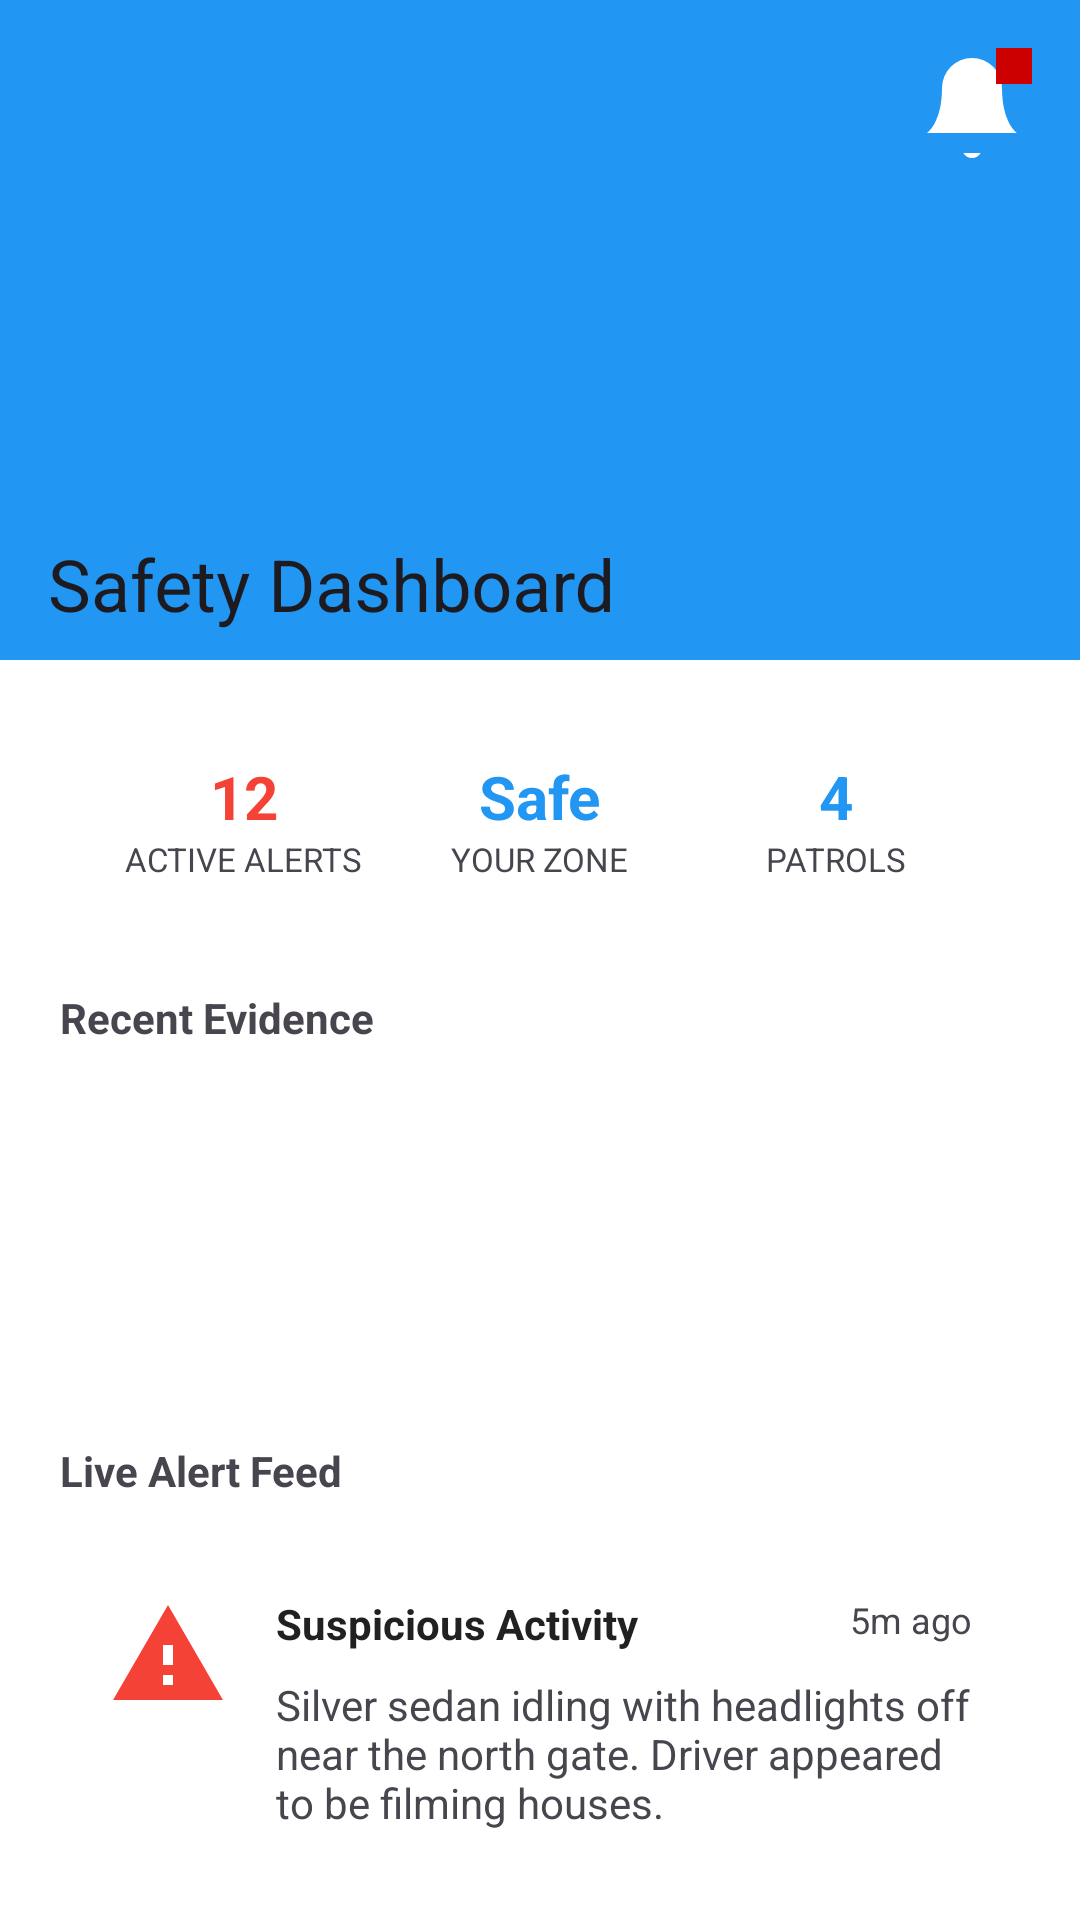

Icons on this 1080px x 1920px Android screen, each with the point to tap as point (x, y):
Notification Alerts: point (979, 103)
Warning/Alert Indicator: point (168, 1652)
